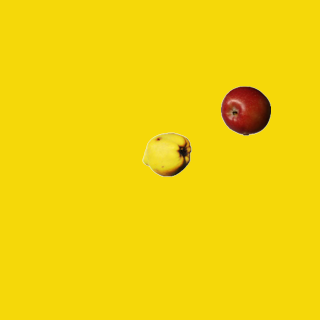Apple Braeburn: (220, 85, 270, 135)
Quince: (141, 129, 191, 179)
